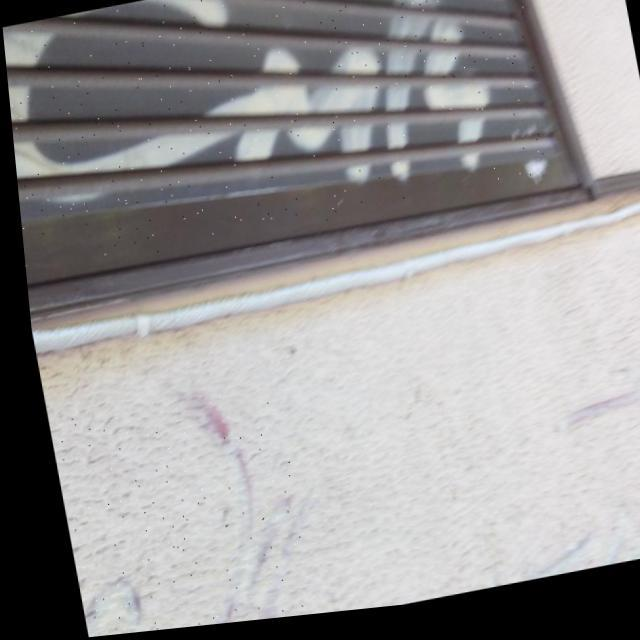-: (0, 0, 553, 278), (38, 382, 304, 639)
